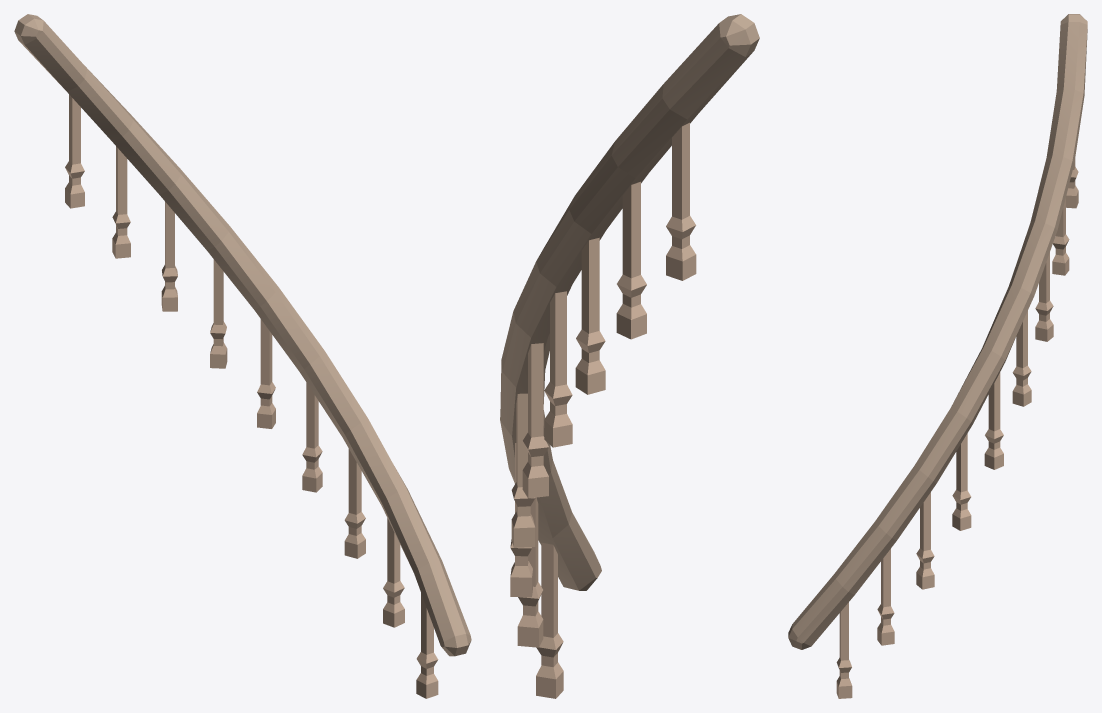
File: Structure_Stairs_Railing_Rising_Curved_Inner.fbx
3 views of the same model, side by side, from view 1: azimuth 30°, elevation 25°; view 2: azimuth 150°, elevation 25°; view 3: azimuth 270°, elevation 25° (orthographic). The views are drawn at different scales.
Parts seen in each view (by area): view 1: object1.107; view 2: object1.107; view 3: object1.107.
Boxes of the visible parts, bbox=[...] form: object1.107: bbox=[14, 14, 471, 698]; object1.107: bbox=[500, 14, 759, 698]; object1.107: bbox=[788, 14, 1087, 698].
Bounding box in the file's own units: 110 × 230 × 110.
